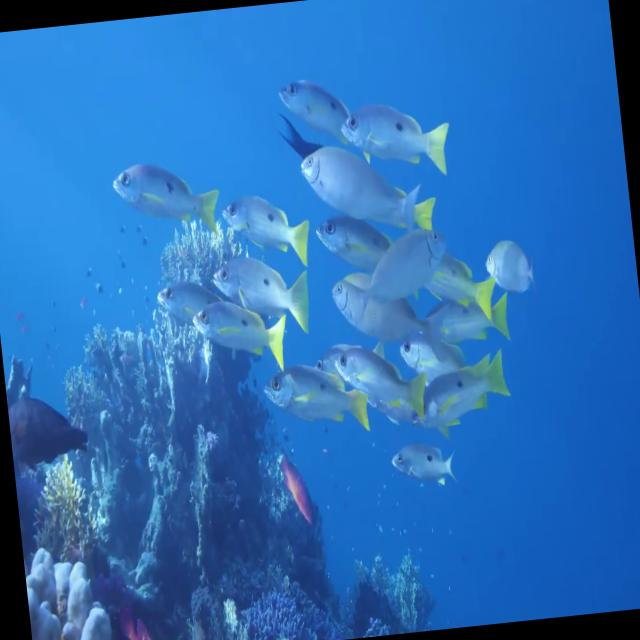fish: (294, 116, 424, 240), (334, 216, 458, 326), (322, 318, 430, 432), (334, 91, 457, 189), (209, 235, 319, 339), (326, 249, 430, 352), (209, 175, 312, 278), (260, 329, 362, 433), (110, 150, 224, 240), (5, 374, 97, 485), (412, 341, 516, 434), (186, 293, 288, 369), (426, 234, 511, 316), (274, 62, 354, 144), (429, 288, 514, 357), (380, 430, 469, 489), (312, 202, 394, 266), (148, 258, 221, 324), (484, 218, 544, 298), (396, 317, 460, 376)
